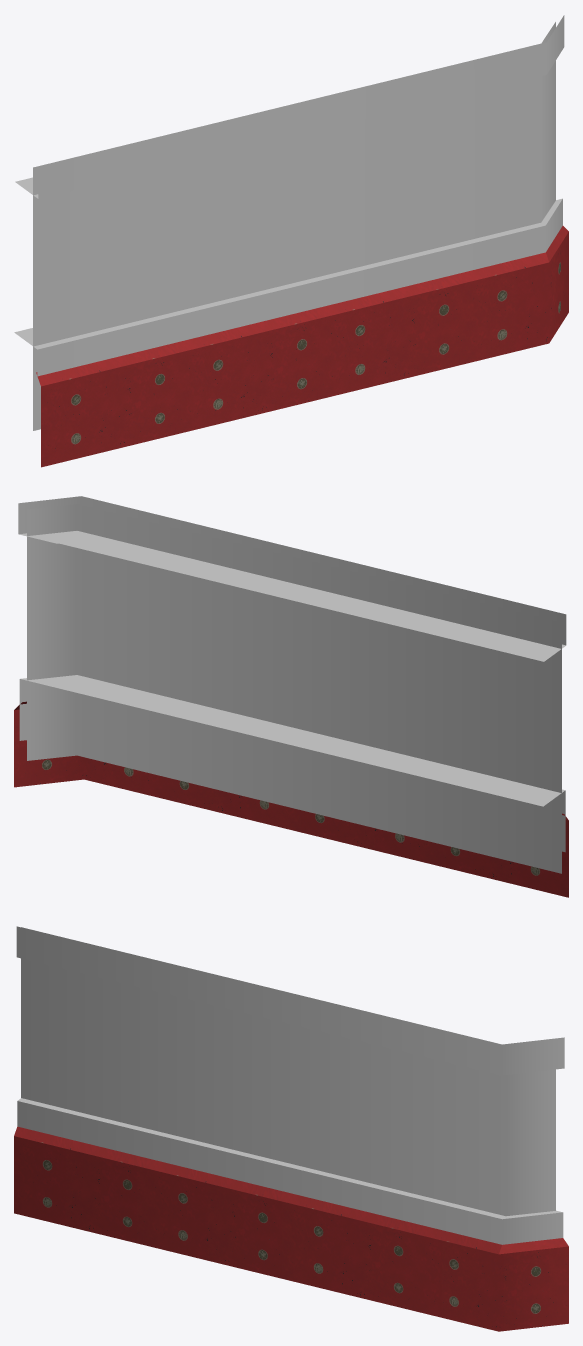
Rendered from Ob_BuildingBaseWallCornerOuter_RC.fbx.
The picture shows the model from 3 angles, top to bottom: view 1: azimuth 30°, elevation 25°; view 2: azimuth 150°, elevation 25°; view 3: azimuth 330°, elevation 25°; orthographic projection. The views are drawn at different scales.
Visible parts, largest first — view 1: Ob_BuildingBaseWallCornerOuter_RC; view 2: Ob_BuildingBaseWallCornerOuter_RC; view 3: Ob_BuildingBaseWallCornerOuter_RC.
Boxes of the visible parts, bbox=[...] form: Ob_BuildingBaseWallCornerOuter_RC: bbox=[14, 15, 568, 467]; Ob_BuildingBaseWallCornerOuter_RC: bbox=[14, 496, 568, 897]; Ob_BuildingBaseWallCornerOuter_RC: bbox=[14, 926, 568, 1331].
Size of the model in its own units: 1336 by 687 by 112.
